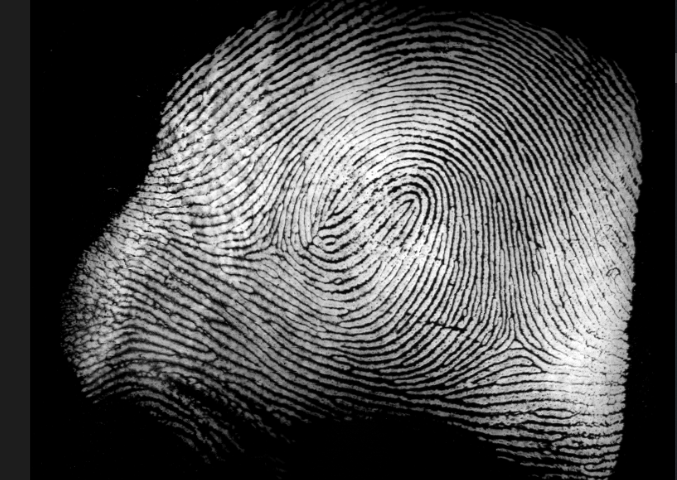nucelo: (394, 193, 421, 218)
verticilo: (500, 328, 526, 357), (256, 234, 290, 253)
